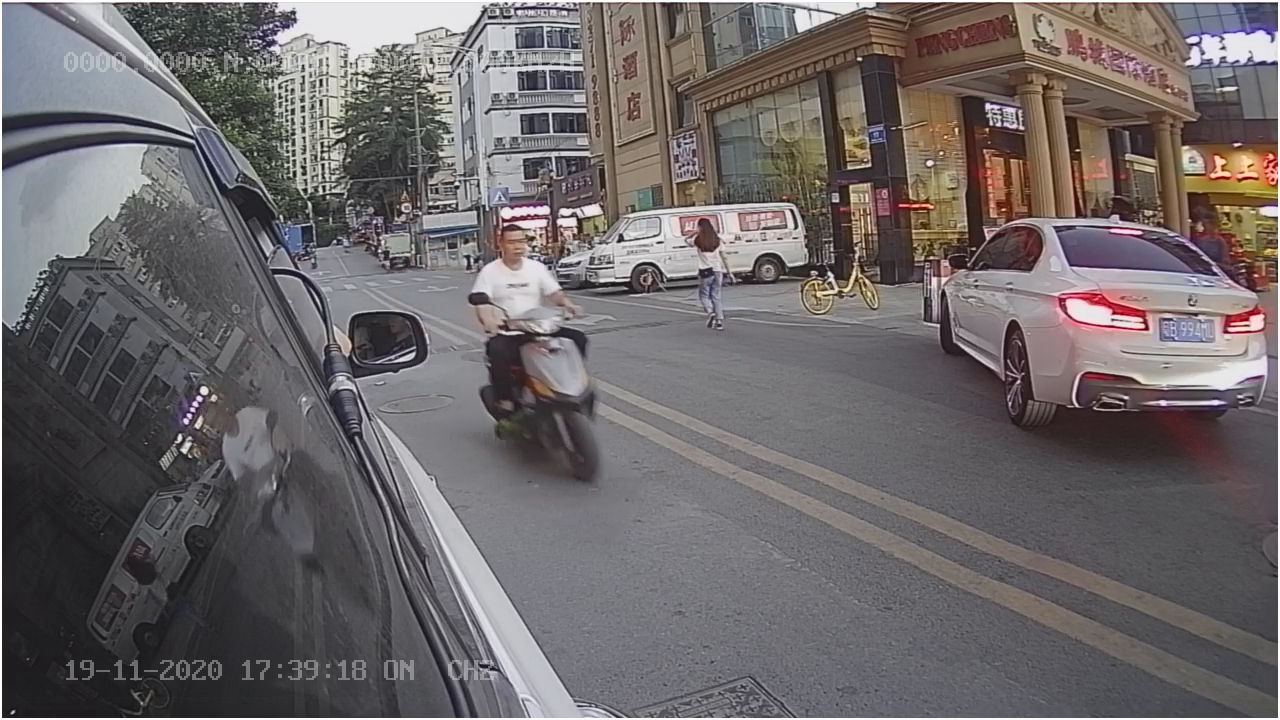person: (471, 226, 567, 342)
